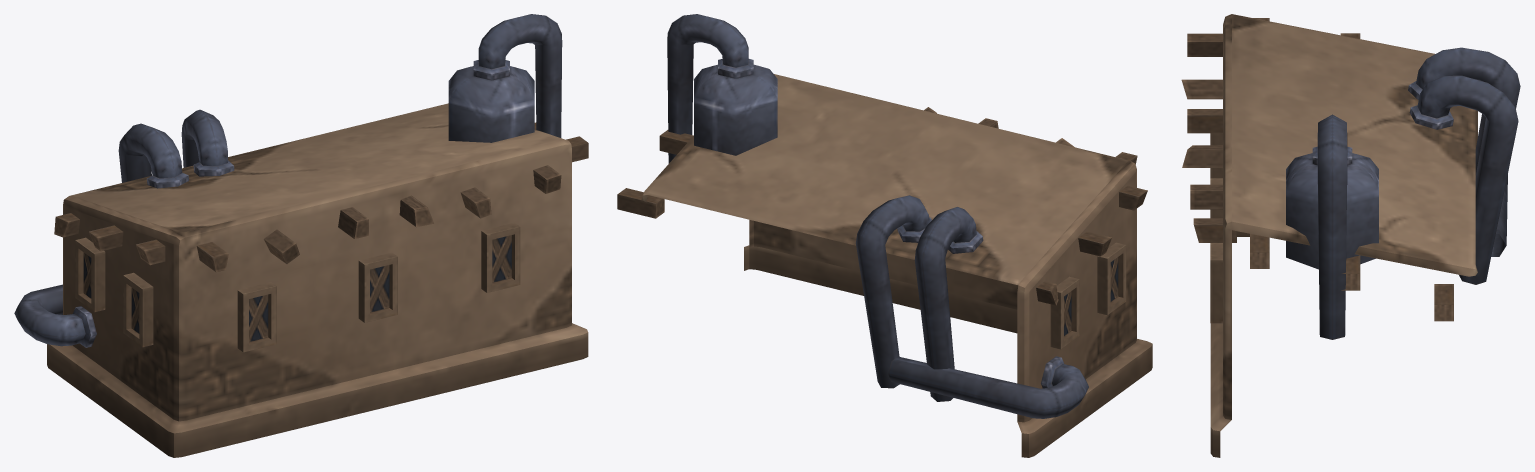
The model's file is handle_wasteland_house_3.FBX.
3 views of the same model, side by side, from view 1: azimuth 30°, elevation 25°; view 2: azimuth 150°, elevation 25°; view 3: azimuth 270°, elevation 25° (orthographic). The views are drawn at different scales.
Visible parts, largest first — view 1: Object018handle_wasteland_house_3; view 2: Object018handle_wasteland_house_3; view 3: Object018handle_wasteland_house_3.
Part boxes in pixels (left/top/right/bottom): Object018handle_wasteland_house_3: left=14, top=14, right=588, bottom=457; Object018handle_wasteland_house_3: left=617, top=14, right=1152, bottom=457; Object018handle_wasteland_house_3: left=1181, top=14, right=1520, bottom=457.
Size of the model in its own units: 191 by 115 by 108.
